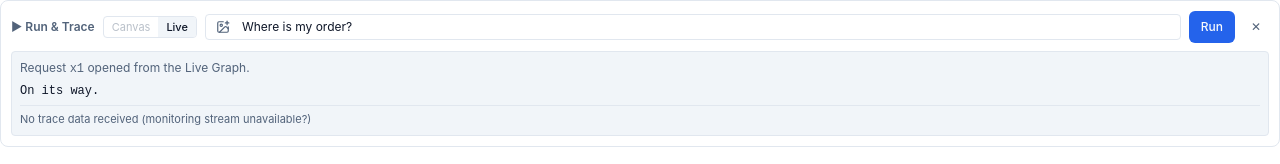
Test case: FlowRunDrawer — attached request › Clear detaches
The image size is (1280, 164).
Expected: the text "On its way." is shown, [20, 84, 99, 98]
Click the button titled "Clear result and canvas trace".
click(1256, 27)  # box [1243, 15, 1269, 39]
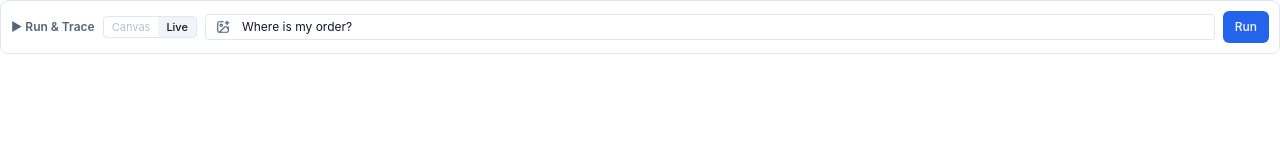
Expected: the element with test id "attached-run" is gone
